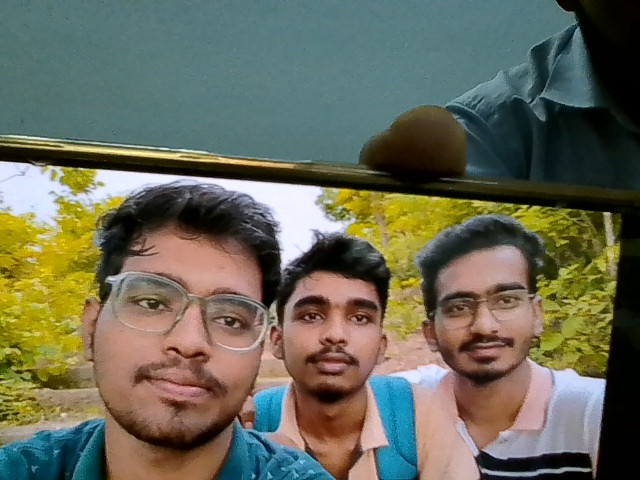real: (75, 165, 283, 460), (424, 212, 548, 388), (273, 239, 387, 400)
